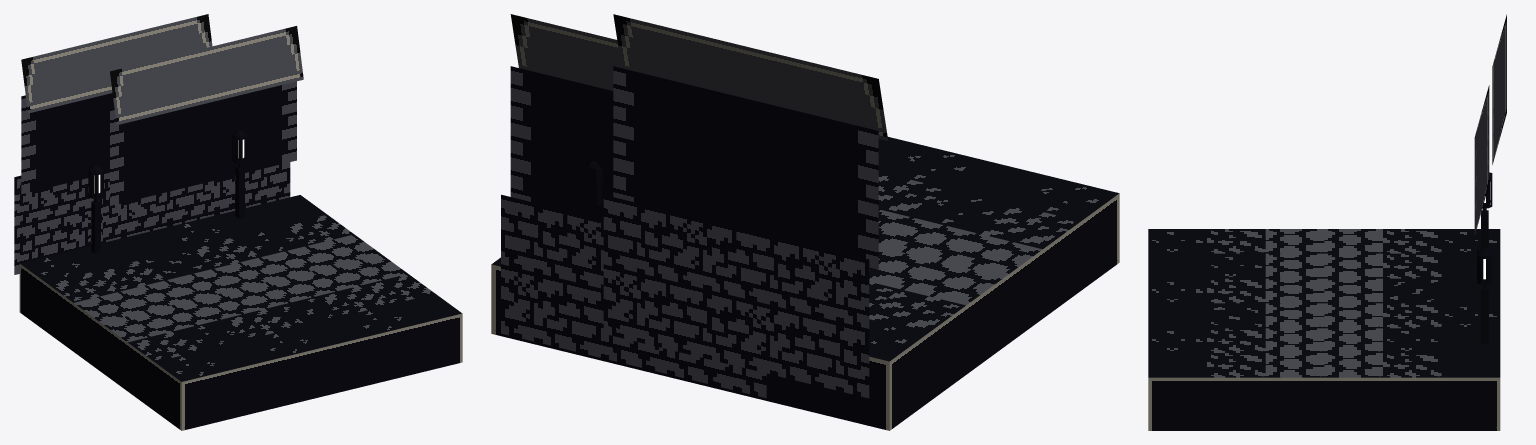
3 renders of one model, left to right at view 1: azimuth 30°, elevation 25°; view 2: azimuth 150°, elevation 25°; view 3: azimuth 270°, elevation 25°, orthographic. The views are drawn at different scales.
Visible parts, largest first — view 1: Cube, LampPost, LampPost.001; view 2: Cube, LampPost.001; view 3: Cube, LampPost.001, LampPost.
Boxes of the visible parts, bbox=[...] form: Cube: bbox=[14, 14, 462, 430]; LampPost: bbox=[88, 164, 103, 253]; LampPost.001: bbox=[232, 129, 247, 218]; Cube: bbox=[491, 14, 1119, 430]; LampPost.001: bbox=[586, 161, 602, 205]; Cube: bbox=[1148, 14, 1506, 430]; LampPost.001: bbox=[1477, 248, 1492, 343]; LampPost: bbox=[1481, 172, 1492, 249].
Bounding box in the file's own units: 6 × 5.09 × 6.36.
Materials: 4 (3 with a texture image).
